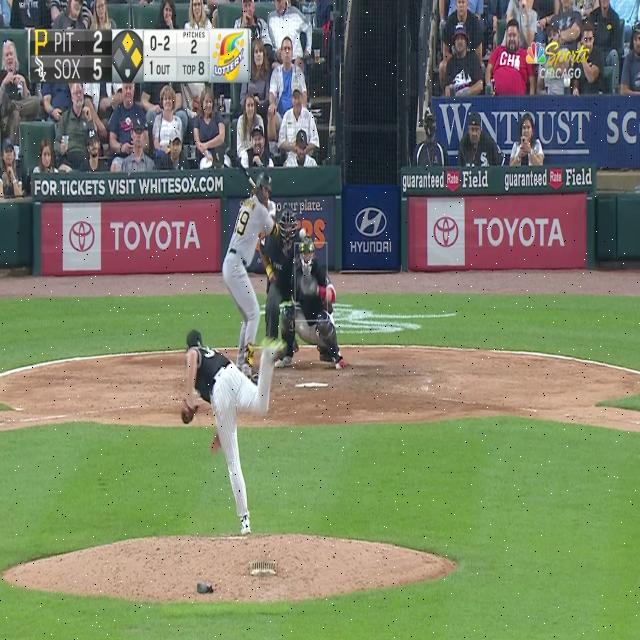baseball: (299, 228, 305, 239)
